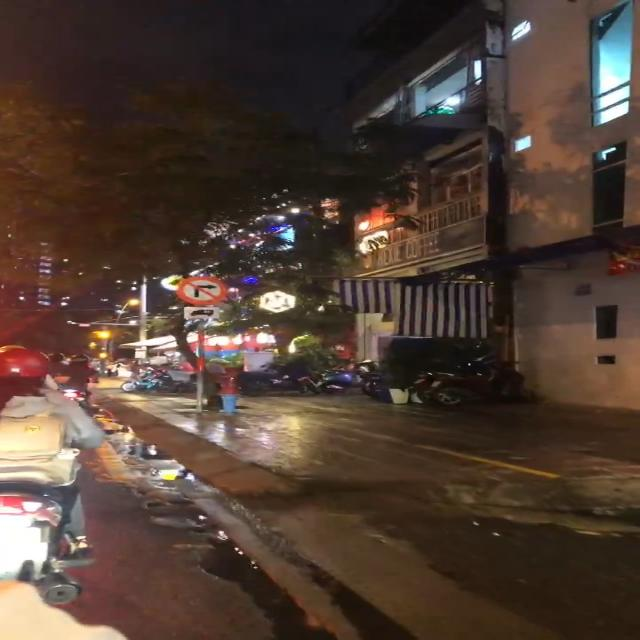Bien bao cam re phai: (172, 272, 232, 306)
